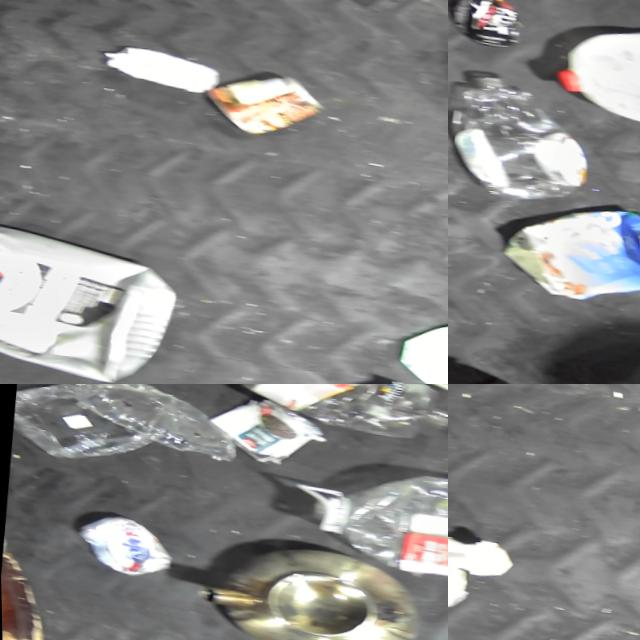can: (198, 60, 325, 141), (448, 0, 519, 44)
milk_jug: (551, 8, 640, 129), (448, 504, 515, 630)
non_white_jug: (0, 217, 181, 384)
plastic_bottle: (448, 65, 593, 203), (251, 384, 448, 444)
